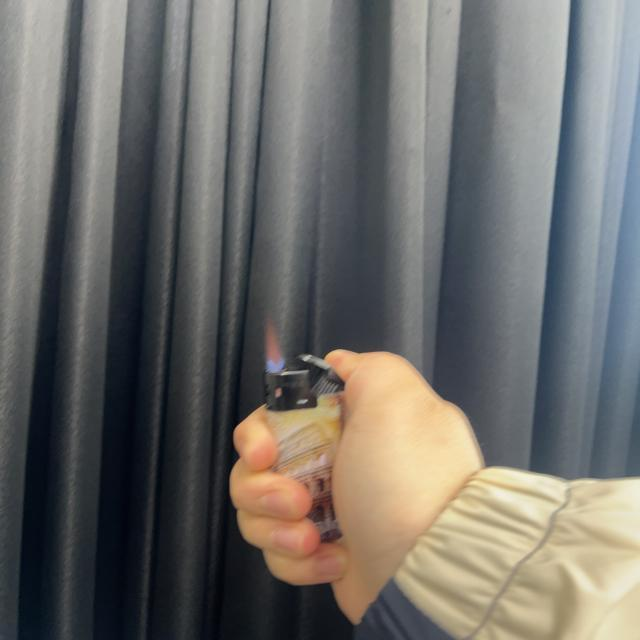fire: (264, 324, 286, 370)
